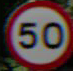Speed limit: (4, 2, 69, 62)
